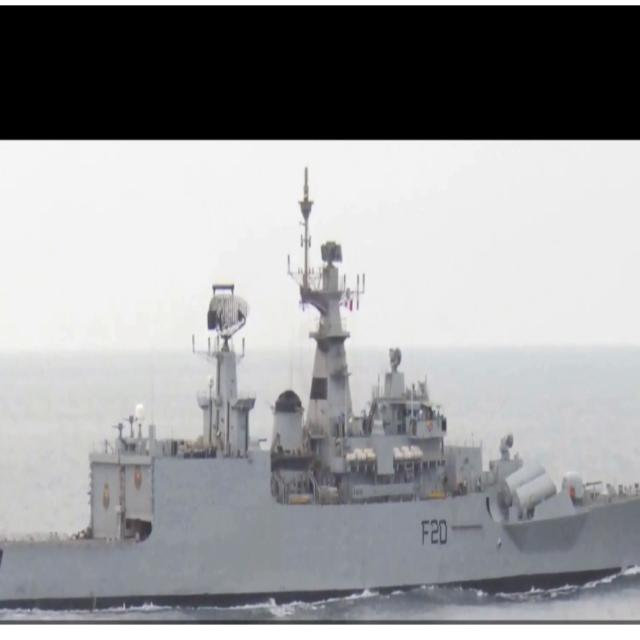OCR: (415, 511, 450, 552)
